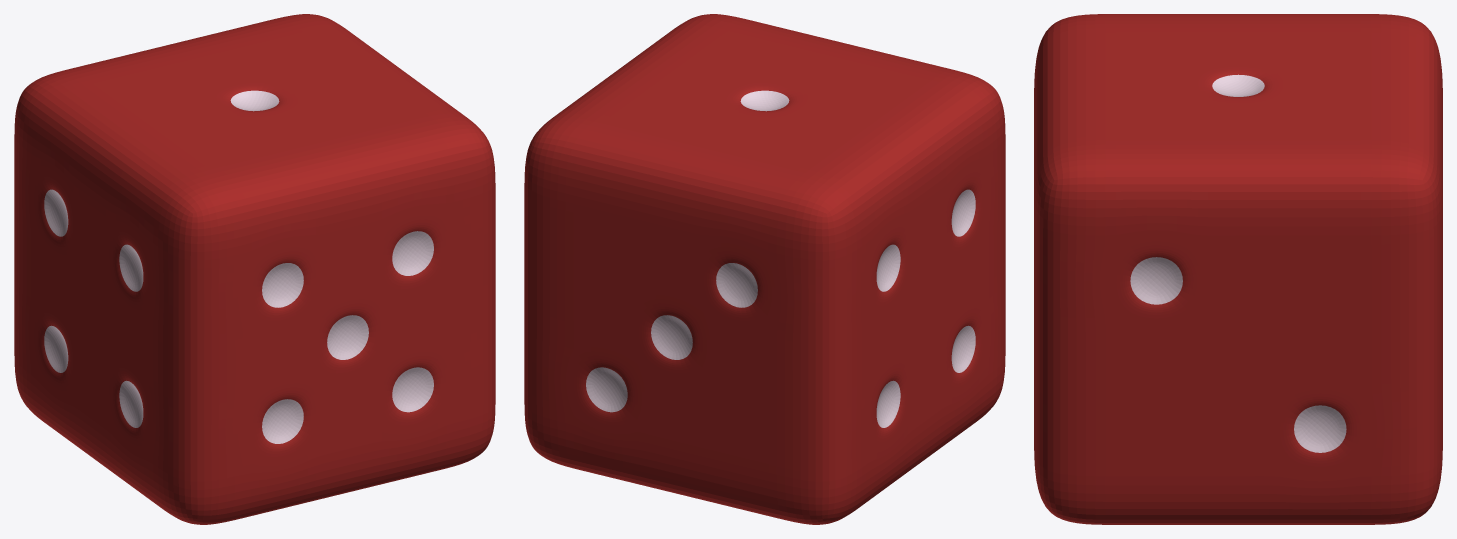
Rendered from Dice.glb.
3 renders of one model, left to right at view 1: azimuth 30°, elevation 25°; view 2: azimuth 150°, elevation 25°; view 3: azimuth 270°, elevation 25°, orthographic. The views are drawn at different scales.
Visible parts, largest first — view 1: Cube; view 2: Cube; view 3: Cube.
Boxes of the visible parts, x1,y1,x2,y2 form: Cube: (14,14,495,524); Cube: (524,14,1005,524); Cube: (1034,14,1442,524).
Bounding box in the file's own units: 2 × 2 × 2.
